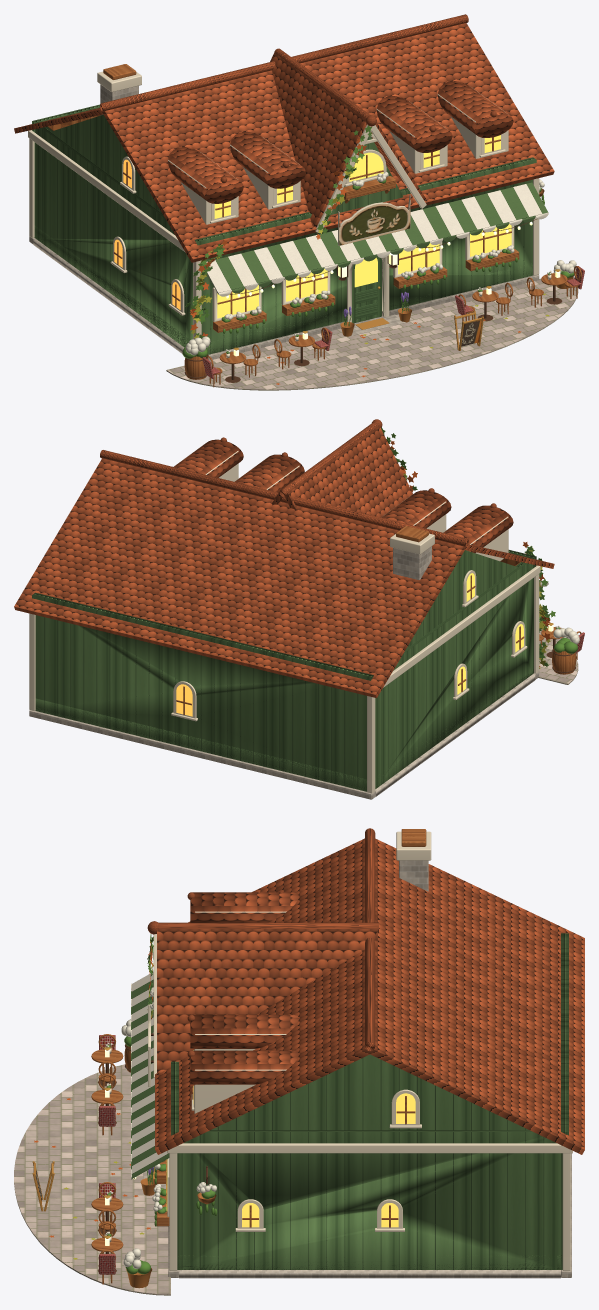
The model's file is building_cafe.glb.
3 renders of one model, top to bottom at view 1: azimuth 30°, elevation 25°; view 2: azimuth 150°, elevation 25°; view 3: azimuth 270°, elevation 25°, orthographic. The views are drawn at different scales.
Parts seen in each view (by area): view 1: roof, wall_front, base, wall_left, wall_left_low, door, wall_front_low, wall_back; view 2: roof, wall_back, wall_left, wall_back_low, base, wall_front, wall_left_low; view 3: roof, wall_right, base, wall_front, wall_back, wall_right_low.
Boxes of the visible parts, x1,y1,x2,y2 form: roof: (14,14,554,262); wall_front: (185,157,548,360); base: (166,260,584,390); wall_left: (33,114,192,353); wall_left_low: (33,226,188,353); door: (352,256,381,323); wall_front_low: (206,263,539,359); wall_back: (29,104,100,243); roof: (14,419,554,698); wall_back: (29,592,375,799); wall_left: (375,550,535,796); wall_back_low: (29,698,375,798); base: (538,623,584,684); wall_front: (500,542,555,679); wall_left_low: (375,671,535,788); roof: (147,828,584,1154); wall_right: (179,1054,560,1278); base: (14,1019,170,1295); wall_front: (131,942,178,1277); wall_back: (561,933,571,1277); wall_right_low: (179,1255,560,1269).
Bounding box in the file's own units: 14 × 7.14 × 14.35.
25 materials, 12 textured.
